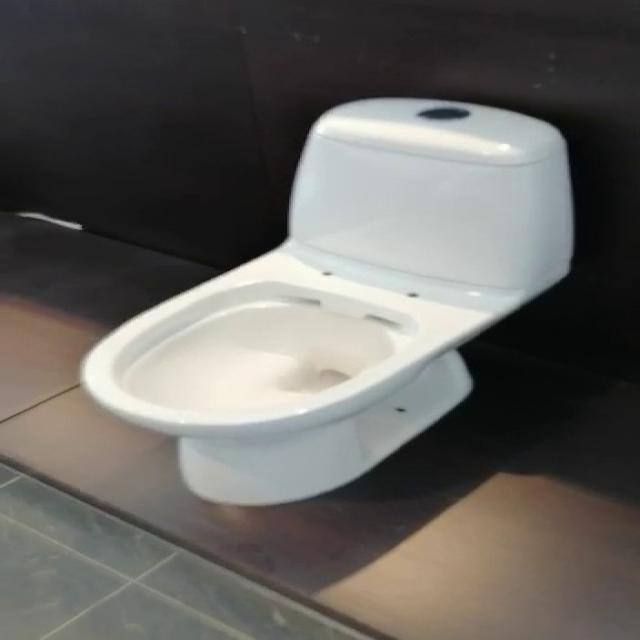toilet: (78, 95, 575, 507)
